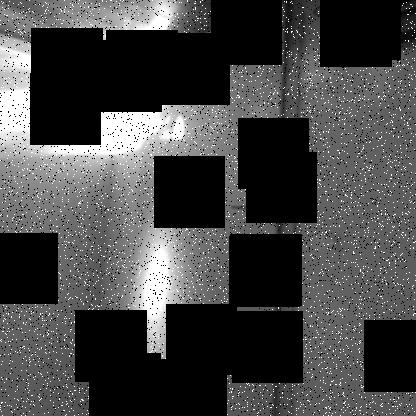Porte: (119, 1, 305, 415)
